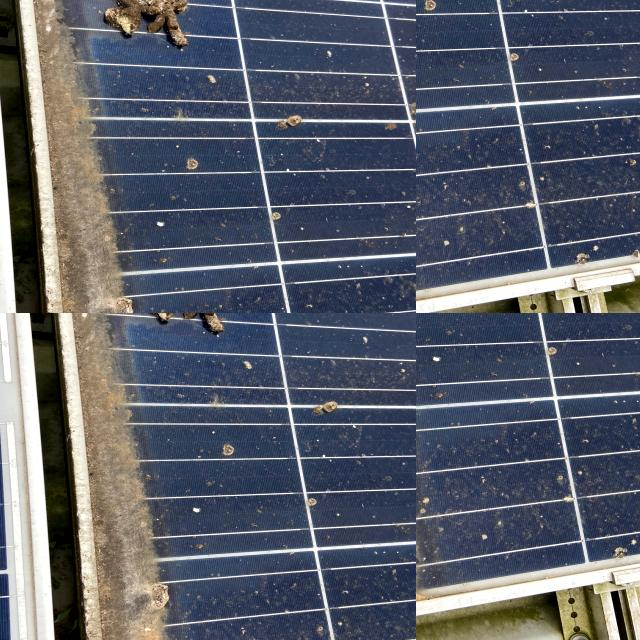bird: (416, 313, 489, 362), (527, 313, 610, 348), (603, 486, 633, 568), (535, 313, 608, 343), (427, 313, 499, 336), (416, 0, 503, 18), (416, 0, 449, 24), (455, 313, 510, 327), (587, 313, 640, 320)
dust: (0, 313, 34, 321), (0, 313, 19, 327), (0, 313, 29, 319)
hotspot: (0, 0, 47, 25)
